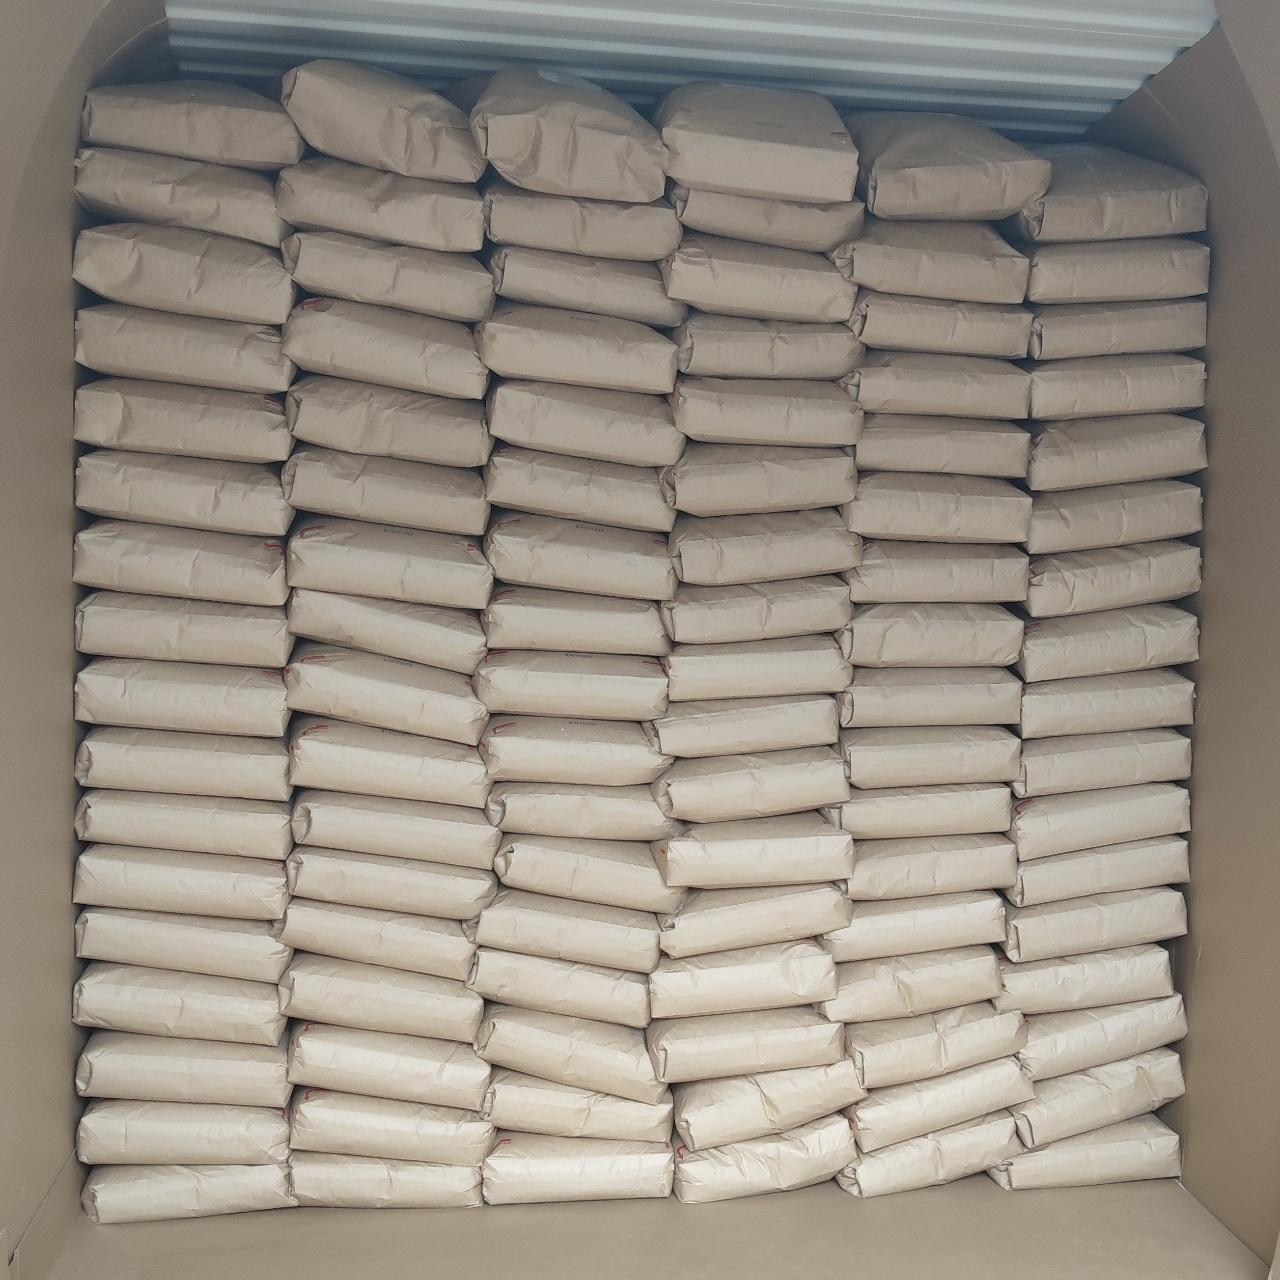sack: (450, 66, 667, 202), (282, 60, 485, 182), (655, 82, 858, 203), (73, 224, 297, 324), (844, 113, 1050, 220), (75, 147, 292, 246), (282, 297, 486, 399), (286, 644, 486, 745), (1002, 144, 1206, 243), (275, 155, 482, 252), (75, 304, 297, 393), (82, 81, 305, 169), (287, 515, 492, 610), (286, 375, 493, 467), (73, 517, 288, 605), (76, 1020, 292, 1108), (282, 231, 492, 320), (76, 449, 294, 535), (74, 377, 293, 462), (476, 302, 678, 394), (282, 445, 489, 535), (474, 1005, 663, 1101), (290, 716, 491, 806), (844, 1056, 1033, 1152), (279, 953, 482, 1042), (288, 1023, 490, 1111), (659, 232, 857, 321), (72, 964, 285, 1046), (1010, 1047, 1183, 1148), (484, 511, 678, 600), (486, 380, 685, 467), (675, 1058, 864, 1149), (485, 443, 675, 532), (75, 659, 290, 737), (76, 590, 293, 667), (287, 590, 485, 673), (291, 790, 501, 869), (272, 898, 475, 979), (832, 219, 1027, 302), (73, 844, 288, 919), (76, 907, 292, 982), (484, 246, 687, 326), (290, 1088, 496, 1165), (485, 179, 682, 260), (75, 726, 291, 799), (675, 1114, 856, 1201), (837, 1111, 1022, 1197), (651, 811, 853, 888), (847, 1002, 1027, 1089), (75, 789, 293, 859), (474, 890, 659, 972), (651, 745, 849, 822), (647, 1006, 844, 1082), (288, 846, 496, 918), (669, 509, 862, 585), (1017, 994, 1186, 1081), (493, 836, 685, 912), (989, 1114, 1180, 1190), (651, 939, 836, 1017), (467, 947, 648, 1027), (482, 1130, 674, 1204), (1017, 602, 1197, 681), (1009, 783, 1189, 862), (483, 1067, 672, 1141), (661, 444, 856, 516), (660, 884, 851, 956), (478, 715, 673, 785), (1001, 887, 1186, 961), (1026, 414, 1207, 489), (472, 651, 668, 720), (79, 1099, 288, 1164), (1024, 540, 1200, 617), (82, 1162, 299, 1223), (821, 892, 1005, 964), (821, 946, 999, 1020), (669, 376, 863, 444), (1006, 835, 1189, 906), (1024, 481, 1201, 554), (482, 586, 670, 655), (669, 185, 864, 252), (661, 576, 852, 644), (844, 472, 1032, 542), (842, 350, 1028, 418), (662, 635, 851, 700), (1019, 353, 1204, 418), (673, 314, 864, 377), (847, 292, 1032, 358), (1019, 669, 1193, 738), (1012, 729, 1189, 797), (998, 945, 1173, 1012), (836, 604, 1023, 666), (647, 696, 838, 757), (1026, 239, 1208, 302), (844, 540, 1028, 602), (856, 413, 1029, 477), (485, 783, 680, 840), (839, 667, 1022, 727), (840, 727, 1020, 788), (847, 835, 1015, 899), (1027, 298, 1207, 358), (290, 1151, 481, 1207), (821, 787, 1012, 838)
